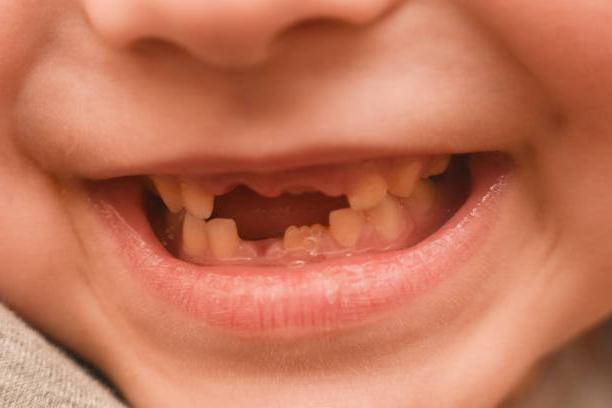Hypodontia: (215, 220, 301, 256), (269, 180, 356, 214), (204, 182, 267, 216)
